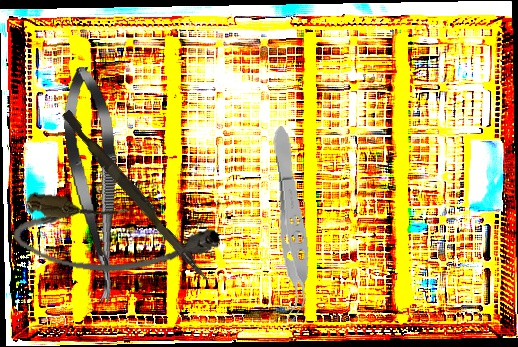Cannula: (10, 189, 225, 290)
Micro Scissor: (58, 64, 131, 306)
Pusher: (57, 109, 216, 283)
Tissue Forceps: (263, 124, 317, 324)
